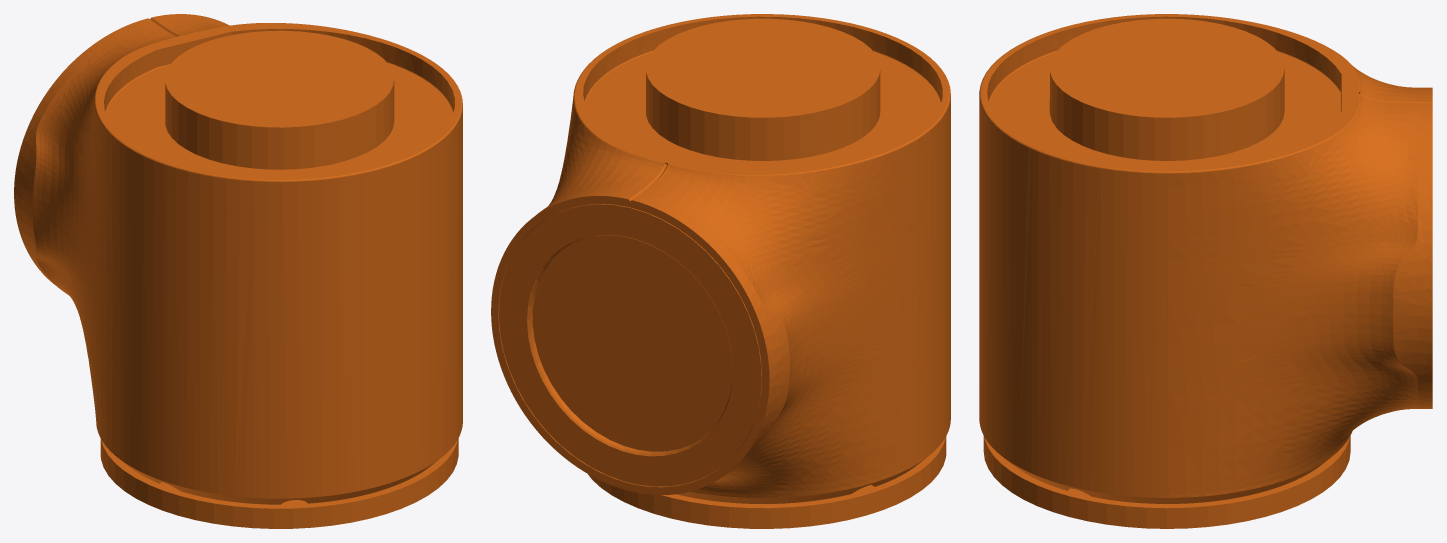
3 views of the same model, side by side, from view 1: azimuth 30°, elevation 25°; view 2: azimuth 150°, elevation 25°; view 3: azimuth 270°, elevation 25° (orthographic). The views are drawn at different scales.
Visible parts, largest first — view 1: AR5-5_08L-W4C4A6-ZY2_link1; view 2: AR5-5_08L-W4C4A6-ZY2_link1; view 3: AR5-5_08L-W4C4A6-ZY2_link1.
Part boxes in pixels (left/top/right/bottom): AR5-5_08L-W4C4A6-ZY2_link1: left=14, top=14, right=462, bottom=528; AR5-5_08L-W4C4A6-ZY2_link1: left=491, top=14, right=950, bottom=528; AR5-5_08L-W4C4A6-ZY2_link1: left=979, top=14, right=1432, bottom=528.
Bounding box in the file's own units: 0.104 × 0.1173 × 0.1255.
